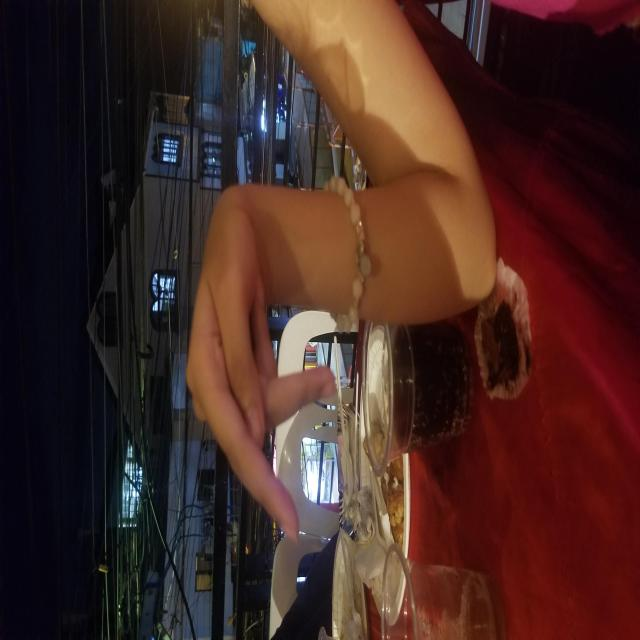P: (96, 182, 459, 338)
